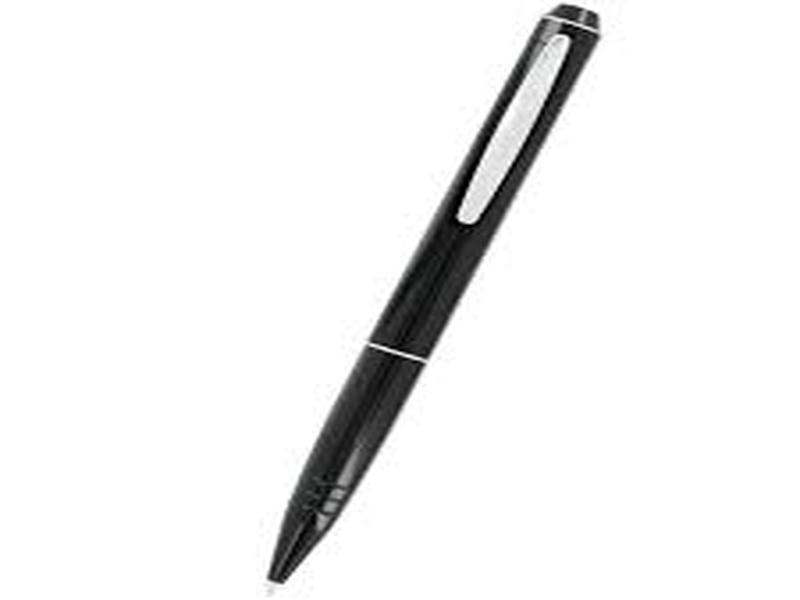qillqana: (239, 2, 609, 596)
